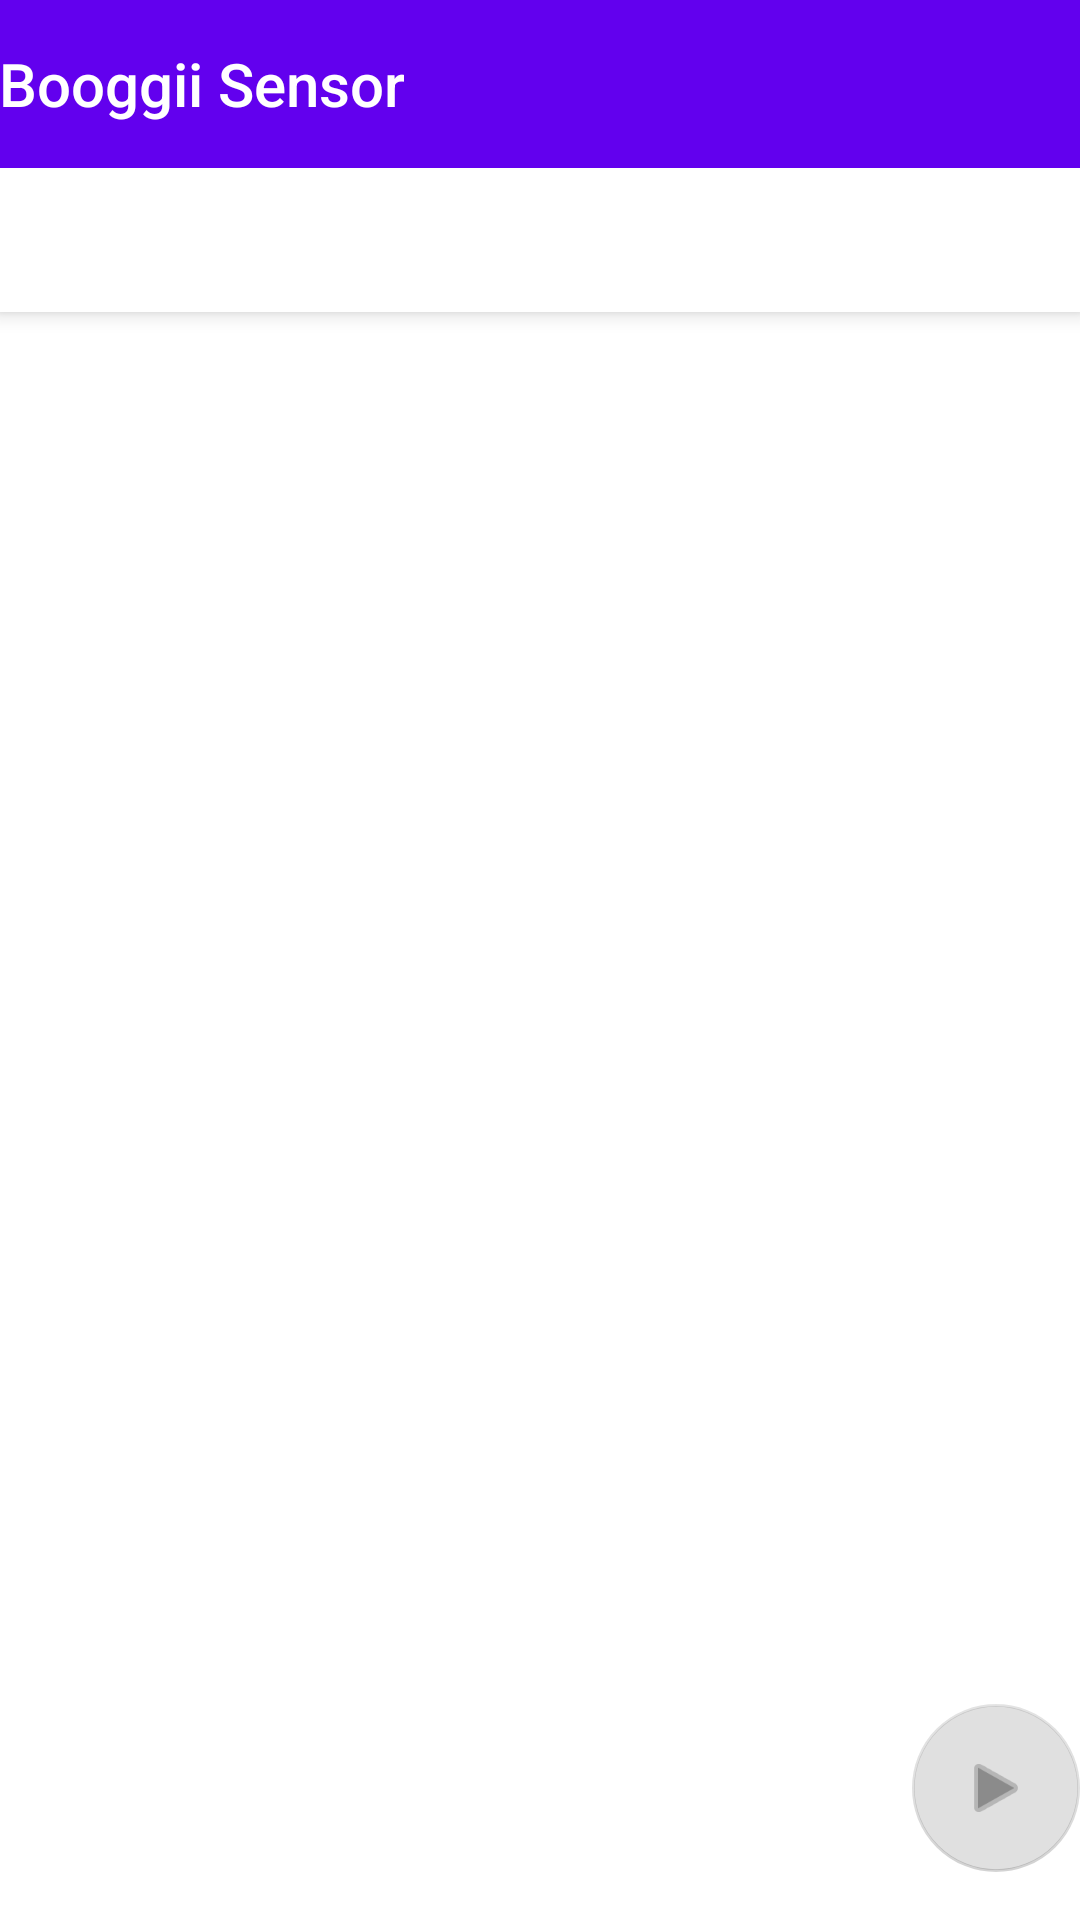

Screen size 1080px×1920px. Icon name, then its box in pixels as (x1, y1, x2, y2):
Start: (912, 1704, 1080, 1872)
